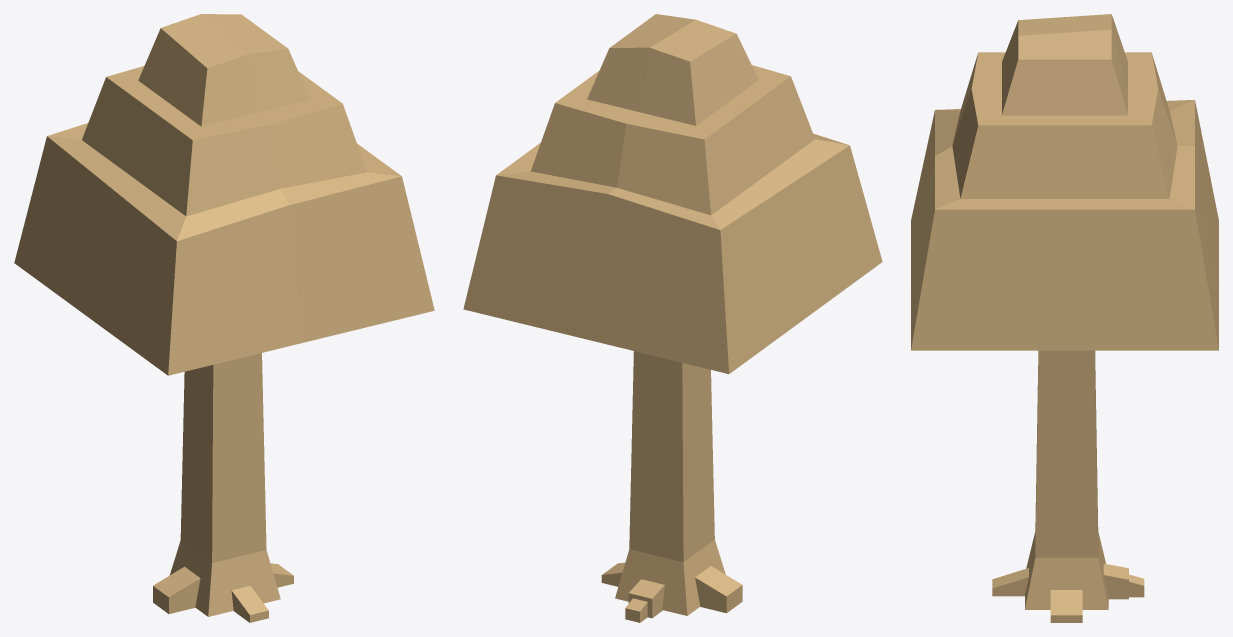
The model's file is Mega_Asset_s_Pack_Cube_193.FBX.
3 views of the same model, side by side, from view 1: azimuth 30°, elevation 25°; view 2: azimuth 150°, elevation 25°; view 3: azimuth 270°, elevation 25° (orthographic).
Visible parts, largest first — view 1: Mega_Asset_s_Pack_Cube_193; view 2: Mega_Asset_s_Pack_Cube_193; view 3: Mega_Asset_s_Pack_Cube_193.
Part boxes in pixels (x1,y1,x2,y2): Mega_Asset_s_Pack_Cube_193: [14, 14, 434, 622]; Mega_Asset_s_Pack_Cube_193: [463, 14, 882, 622]; Mega_Asset_s_Pack_Cube_193: [911, 14, 1218, 622].
Size of what is drawn, in the model's own units: 372 by 372 by 752.
